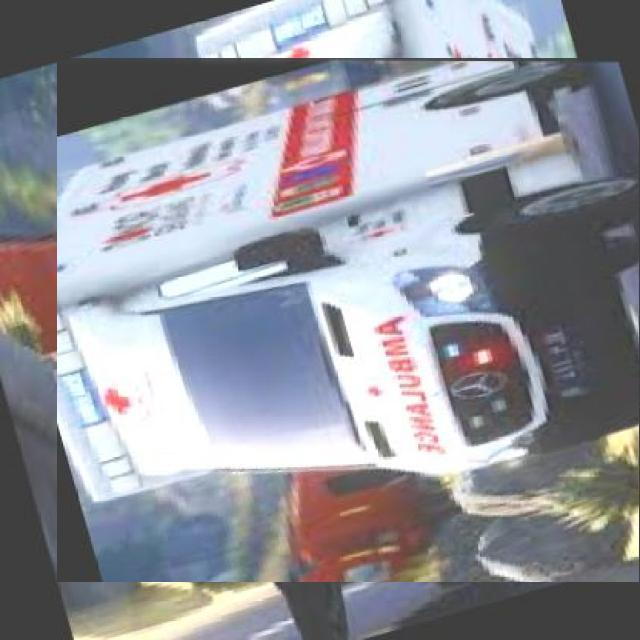emergency-vehicle: (86, 28, 640, 611)
